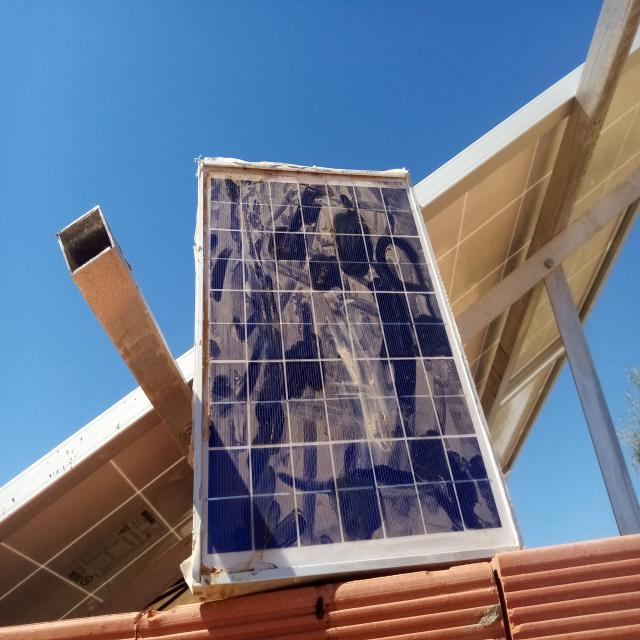faulty: (197, 161, 524, 581)
